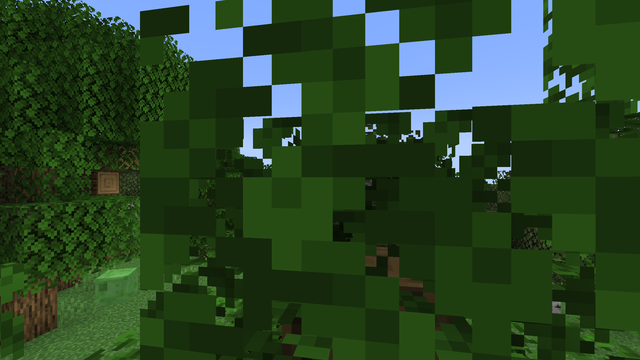slimes: (92, 266, 134, 305)
